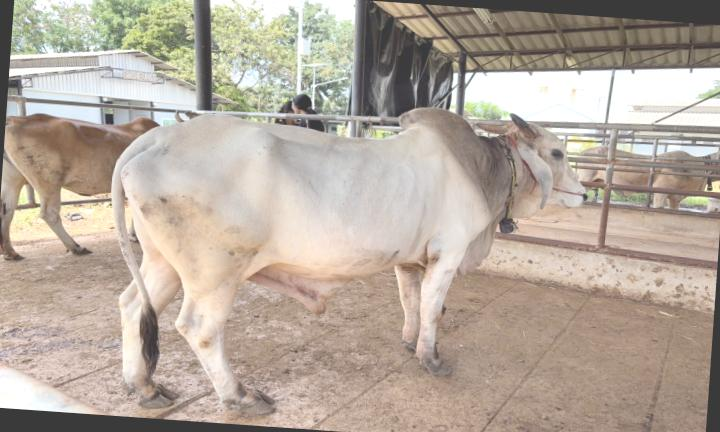Brahman: (112, 108, 583, 412)
